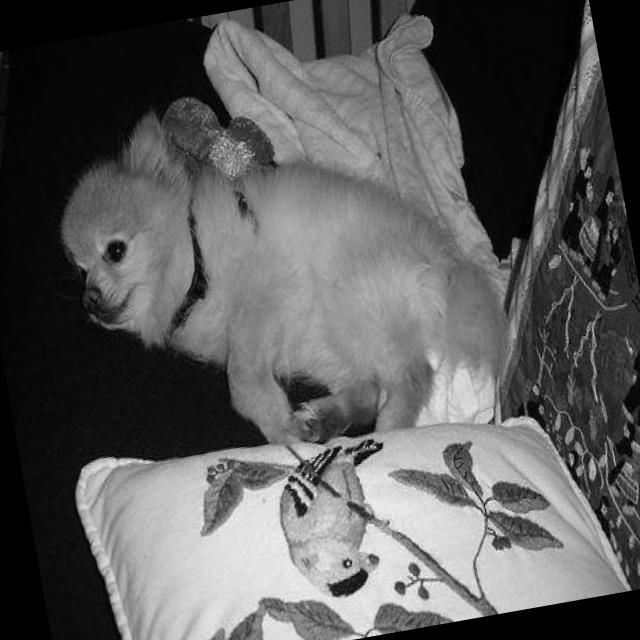laying down: (36, 48, 530, 492)
